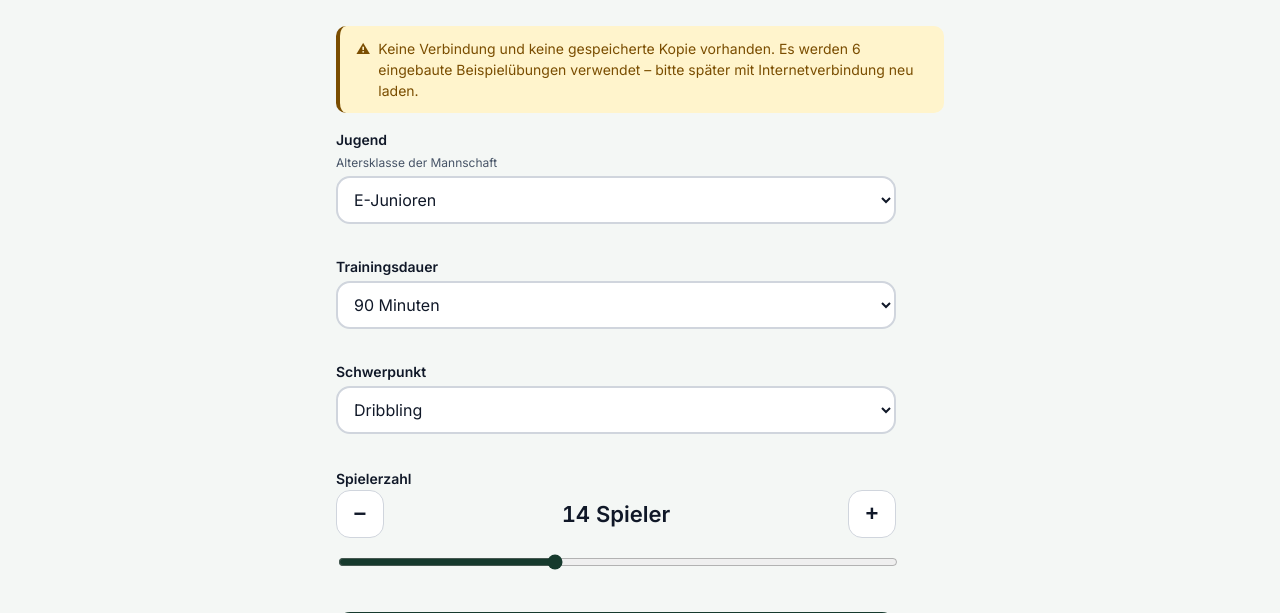
Scenario: Training erstellen (Integration) › zeigt bei unmöglicher Kombination eine klare Fehlermeldung
The width and height of the screenshot is (1280, 613).
Expected: the text "eingebaute Beispielübungen" is shown, x1=378 y1=61 x2=914 y2=99
Expected: the dropdown labelled "Jugend" is shown, x1=336 y1=176 x2=896 y2=224
Step 1. Set the slider to "30" → (890, 562), box x1=338 y1=550 x2=898 y2=574
(page scrolled)
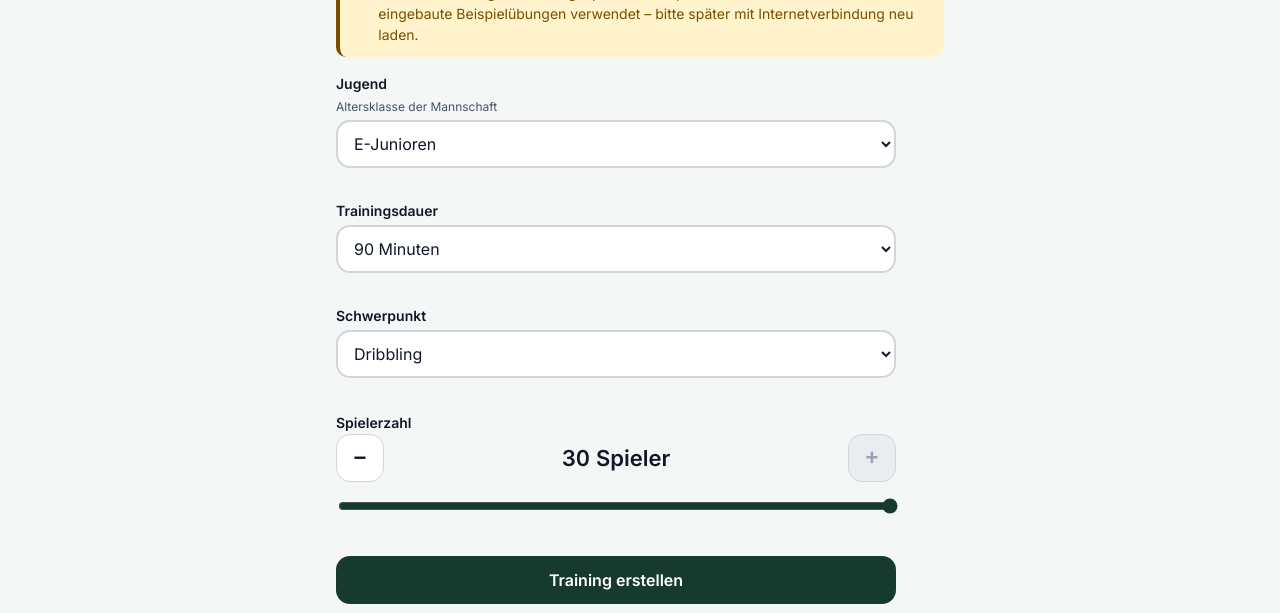
Step 2. Click the button "Training erstellen" → (616, 580), box x1=336 y1=556 x2=896 y2=604
(page scrolled)
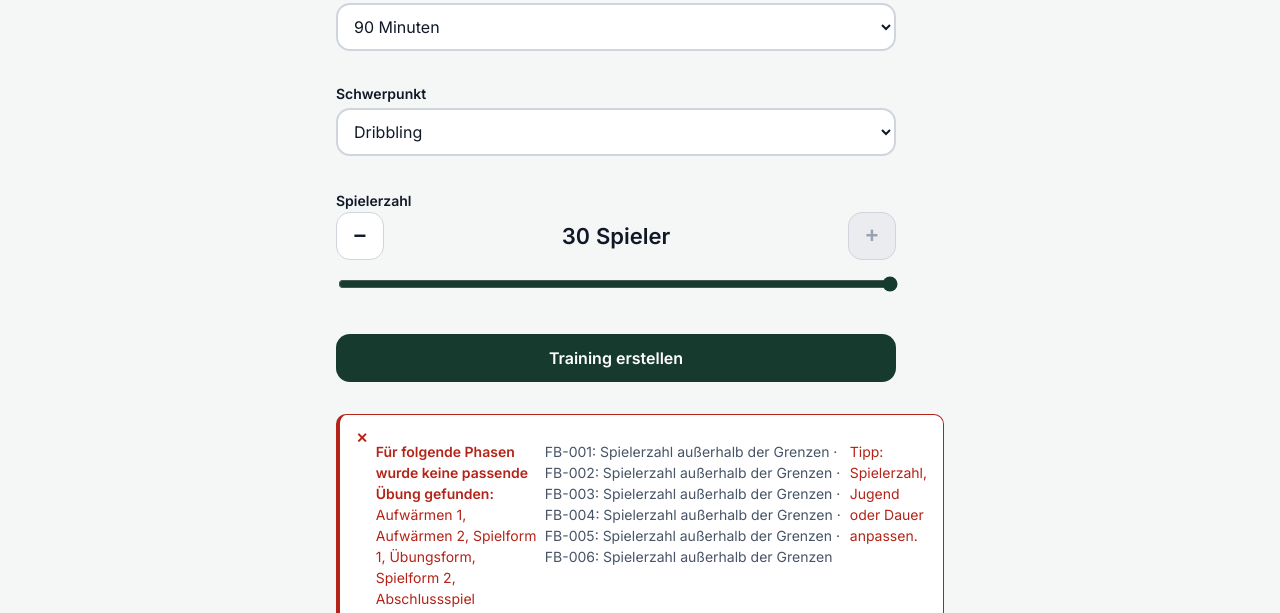
Now the message shows "keine passende Übung", box x1=376 y1=443 x2=528 y2=502
Now the message shows "Tipp", box x1=850 y1=443 x2=927 y2=544
